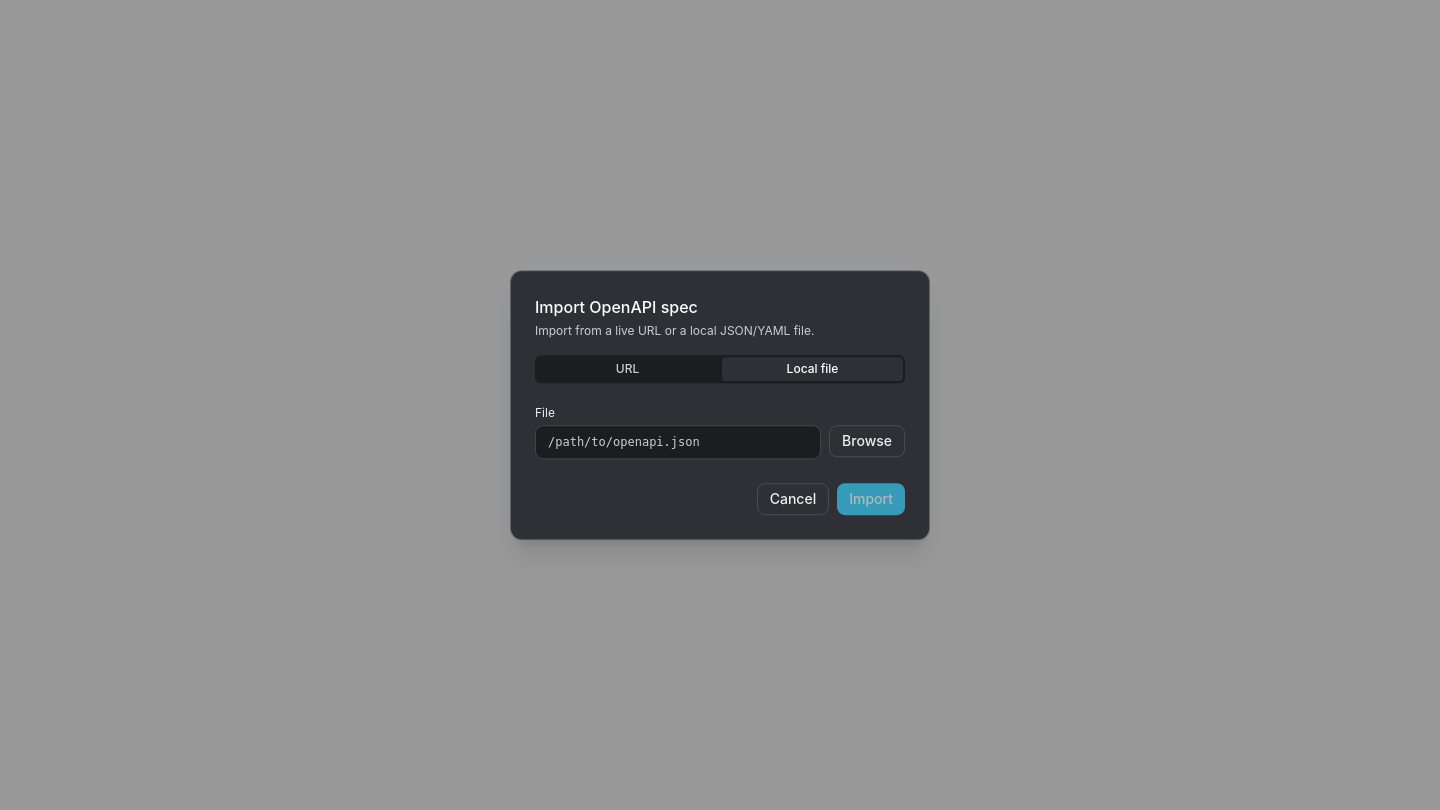
Test: ImportSpecDialog › shows loading state while importing
Click the radio button with test id "import-mode-url".
click(628, 369)  # box [537, 357, 718, 381]
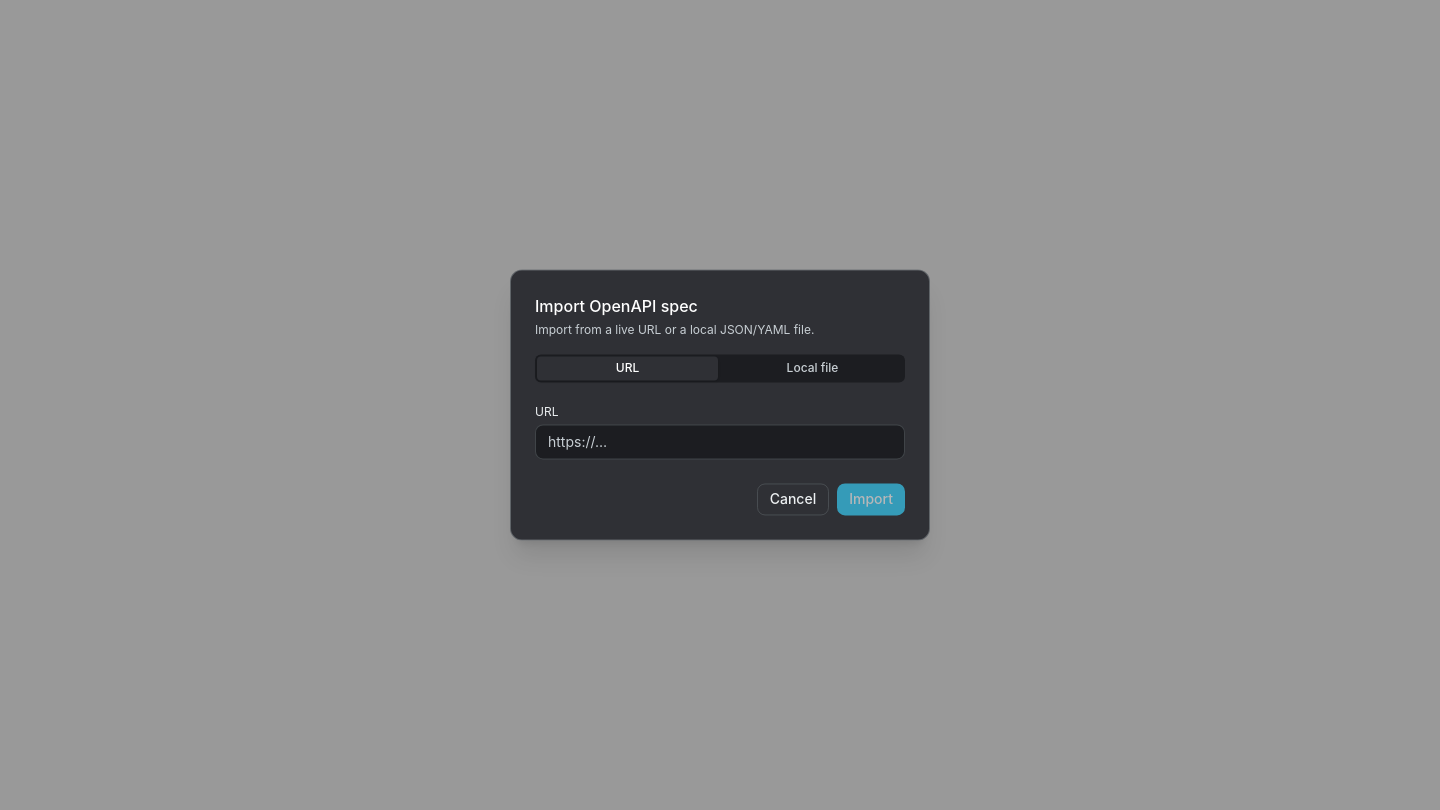
Type "https://example.com/spec.json" into the field with test id "import-spec-url-input".
click(720, 442); type("https://example.com/spec.json")  # box [535, 424, 905, 460]
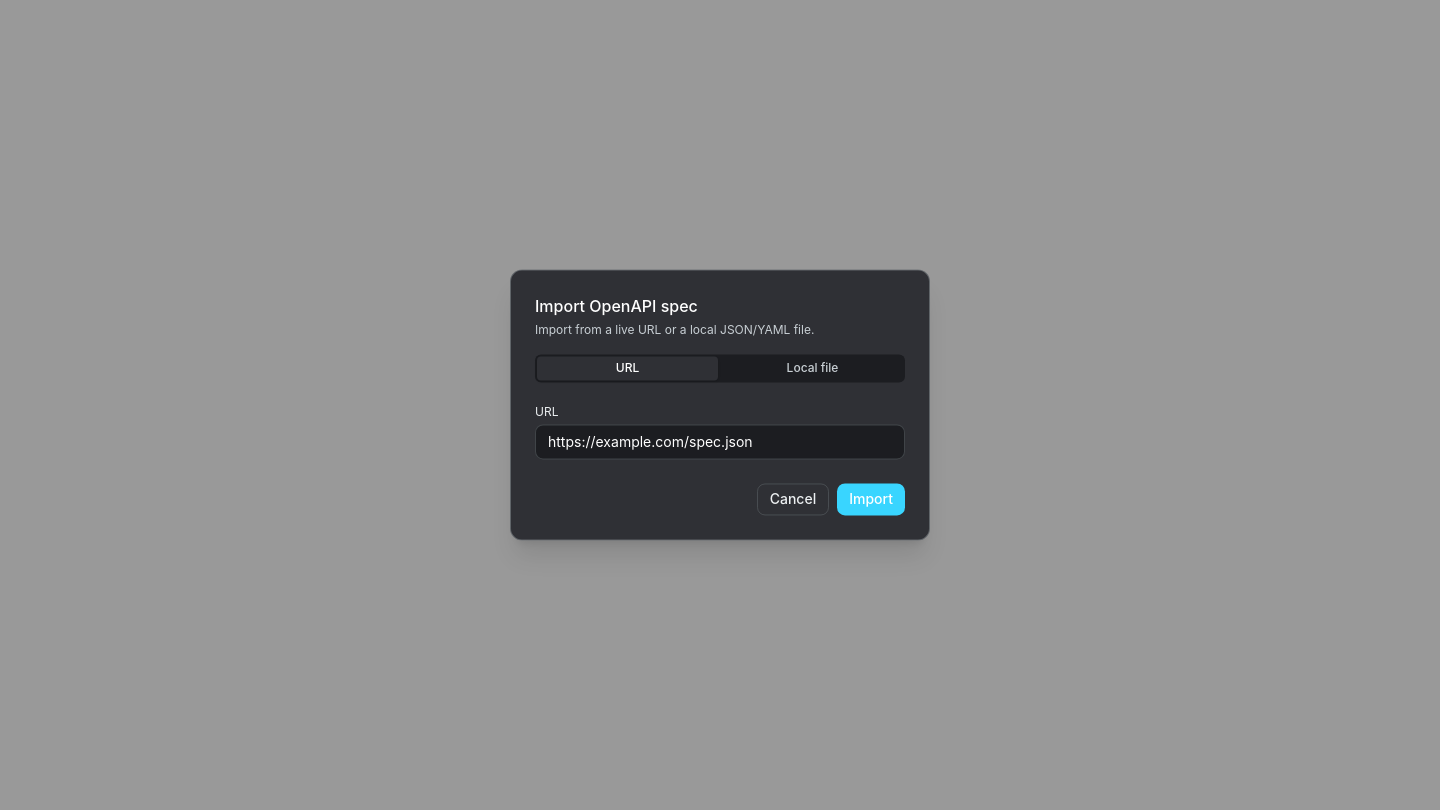
Click the button with test id "import-spec-submit".
click(871, 500)  # box [837, 484, 905, 516]
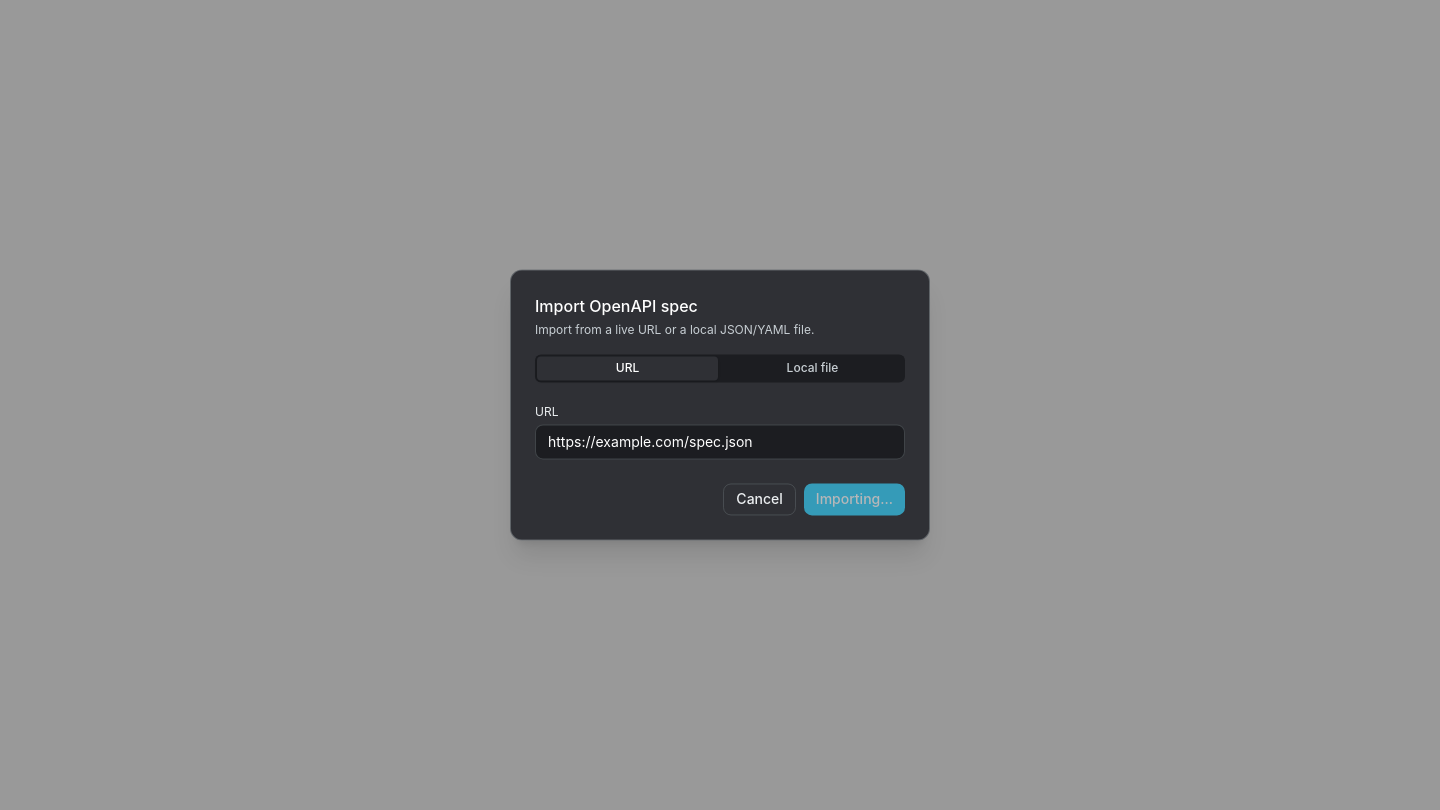
Result: the button with test id "import-spec-submit" is disabled at [804, 484, 905, 516]
